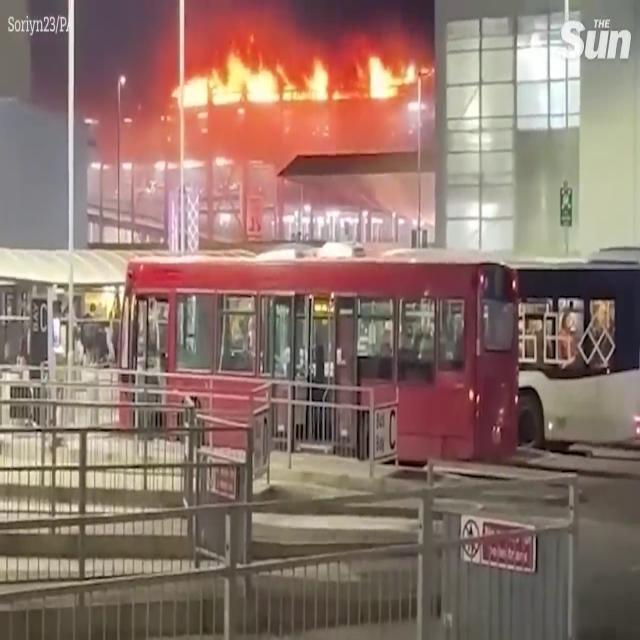Fire: (172, 26, 428, 114)
